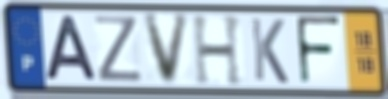A: (41, 14, 100, 84)
F: (293, 13, 343, 88)
H: (189, 13, 245, 88)
K: (248, 16, 291, 87)
V: (141, 11, 193, 88)
Z: (92, 13, 146, 84)
